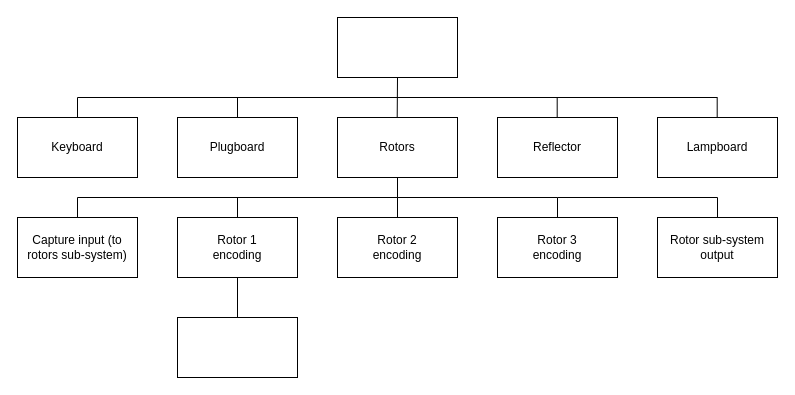
The diagram is 795 pixels wide and 395 high, and some of its shapes have lost their labels. The centre of each missing label's shape, as x and y in pixels:
Enigma machine: the point at 397,47
Transpose rotor: the point at 237,347
